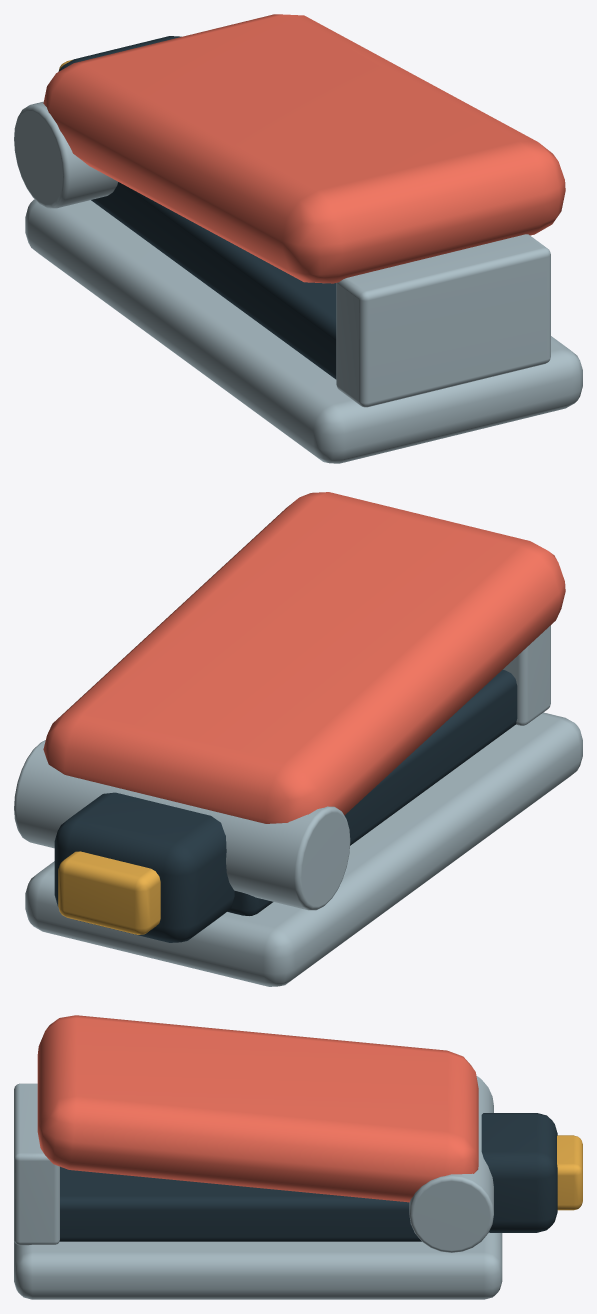
The model's file is part_stapler.glb.
The picture shows the model from 3 angles, top to bottom: view 1: azimuth 30°, elevation 25°; view 2: azimuth 150°, elevation 25°; view 3: azimuth 270°, elevation 25°; orthographic projection. The views are drawn at different scales.
Parts seen in each view (by area): view 1: hinged_upper_handle, Stapler steel lower jaw, Striking nose, Stapler dark magazine, Rear hinge pin; view 2: hinged_upper_handle, Stapler steel lower jaw, Rear hinge pin, Universal rubber mounting pad.010, Stapler dark magazine, Snap-in brass tongue.010, Striking nose; view 3: hinged_upper_handle, Stapler steel lower jaw, Stapler dark magazine, Universal rubber mounting pad.010, Rear hinge pin, Striking nose, Snap-in brass tongue.010.
Part boxes in pixels (x1=…): hinged_upper_handle: x1=43, y1=14, x2=565, y2=283; Stapler steel lower jaw: x1=25, y1=199, x2=582, y2=463; Striking nose: x1=336, y1=234, x2=550, y2=407; Stapler dark magazine: x1=91, y1=182, x2=336, y2=379; Rear hinge pin: x1=14, y1=101, x2=117, y2=208; hinged_upper_handle: x1=43, y1=492, x2=565, y2=823; Stapler steel lower jaw: x1=25, y1=712, x2=582, y2=986; Rear hinge pin: x1=14, y1=740, x2=350, y2=910; Universal rubber mounting pad.010: x1=54, y1=792, x2=234, y2=942; Stapler dark magazine: x1=227, y1=669, x2=517, y2=915; Snap-in brass tongue.010: x1=58, y1=851, x2=160, y2=934; Striking nose: x1=503, y1=625, x2=550, y2=725; hinged_upper_handle: x1=37, y1=1015, x2=478, y2=1202; Stapler steel lower jaw: x1=14, y1=1232, x2=502, y2=1299; Stapler dark magazine: x1=59, y1=1166, x2=421, y2=1241; Universal rubber mounting pad.010: x1=481, y1=1113, x2=557, y2=1232; Rear hinge pin: x1=409, y1=1076, x2=493, y2=1252; Striking nose: x1=14, y1=1083, x2=59, y2=1245; Snap-in brass tongue.010: x1=557, y1=1135, x2=582, y2=1210.
Size of the model in its own units: 0.0114 by 0.00944 by 0.0247.
